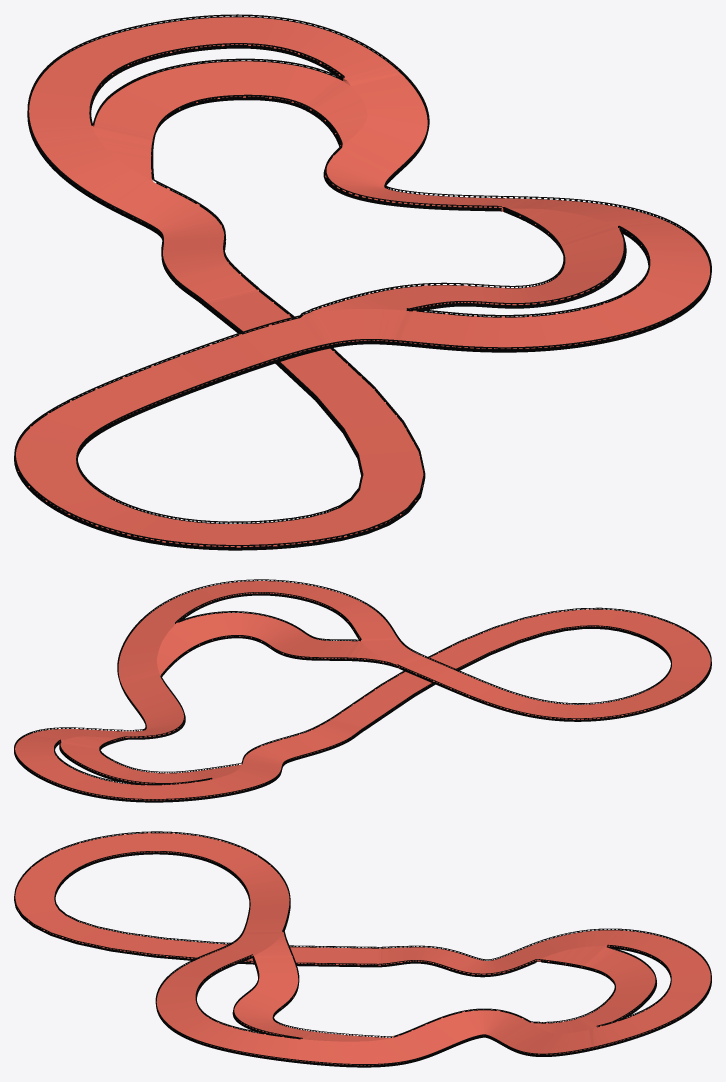
Rendered from Track001.fbx.
3 renders of one model, top to bottom at view 1: azimuth 30°, elevation 25°; view 2: azimuth 150°, elevation 25°; view 3: azimuth 270°, elevation 25°, orthographic. The views are drawn at different scales.
Parts seen in each view (by area): view 1: Cube; view 2: Cube; view 3: Cube.
Boxes of the visible parts, box(x1,y1,x2,y2) form: Cube: box(14, 14, 711, 550); Cube: box(14, 579, 711, 802); Cube: box(14, 831, 711, 1067).
Bounding box in the file's own units: 5412 × 380 × 6774.
